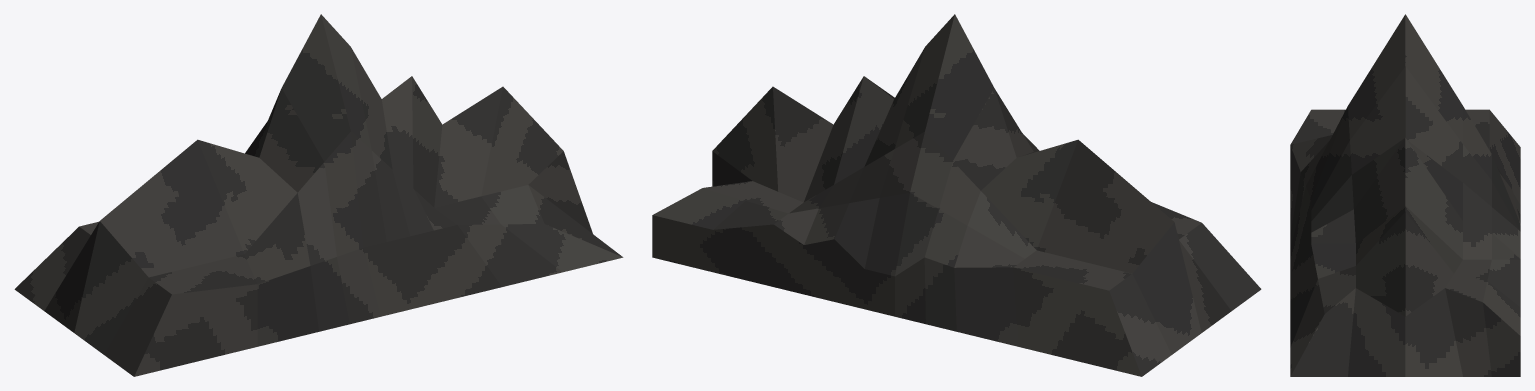
The model's file is Mountain.glb.
3 renders of one model, left to right at view 1: azimuth 30°, elevation 25°; view 2: azimuth 150°, elevation 25°; view 3: azimuth 270°, elevation 25°, orthographic. The views are drawn at different scales.
Visible parts, largest first — view 1: Plane; view 2: Plane; view 3: Plane.
Boxes of the visible parts, bbox=[...] form: Plane: bbox=[14, 14, 623, 376]; Plane: bbox=[652, 14, 1261, 376]; Plane: bbox=[1290, 14, 1520, 376].
Bounding box in the file's own units: 4.72 × 2.39 × 2.
Materials: 1 (1 with a texture image).
